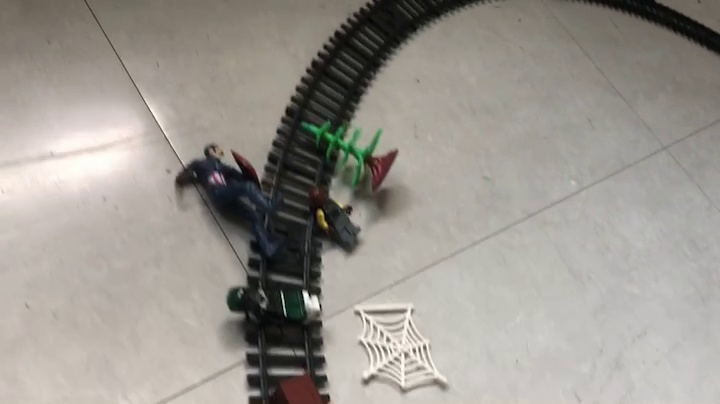people: (175, 144, 286, 261), (227, 286, 323, 332), (306, 188, 365, 253)
tree: (299, 119, 404, 194)
web: (351, 304, 450, 391)
